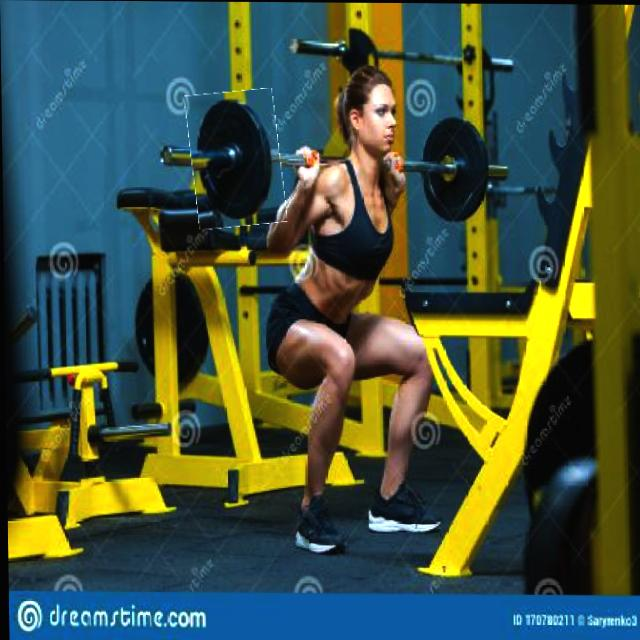barbell: (189, 91, 285, 229)
